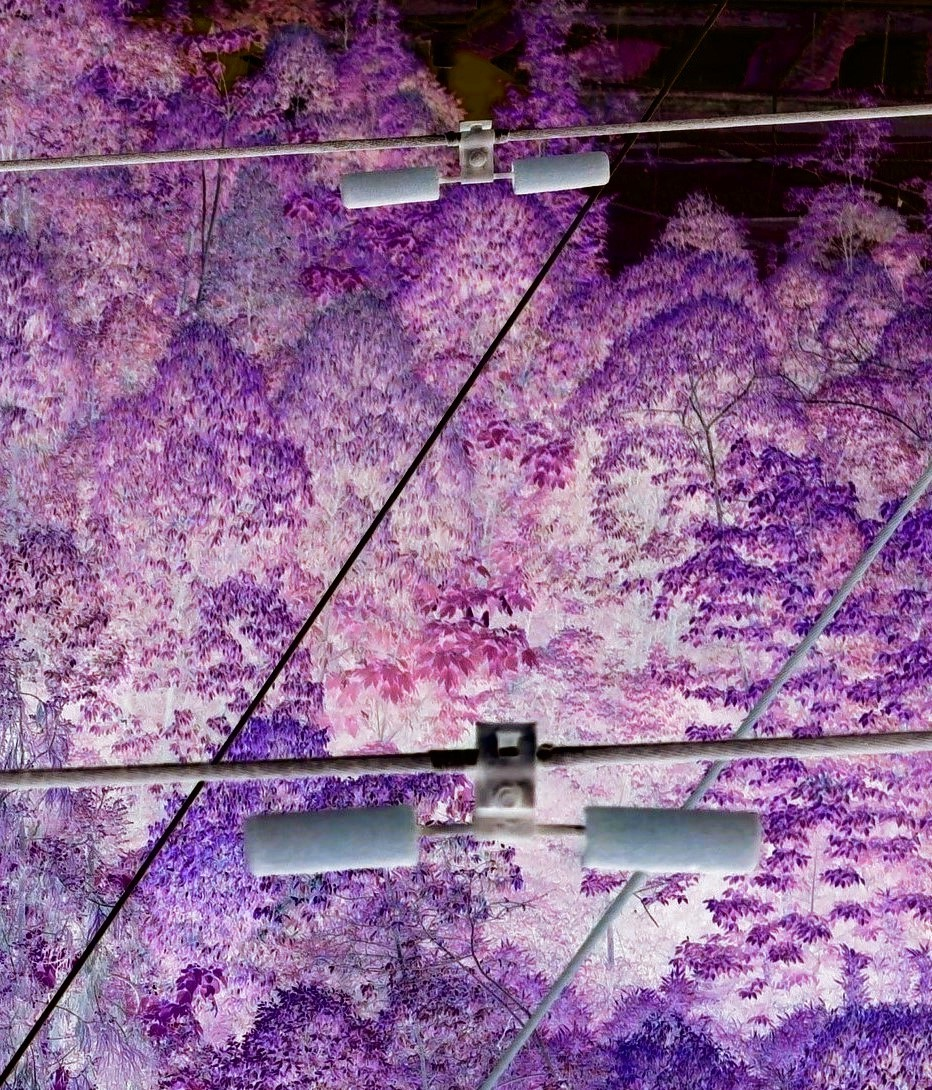Shockproof hammer: (224, 703, 787, 890), (318, 103, 618, 217)
